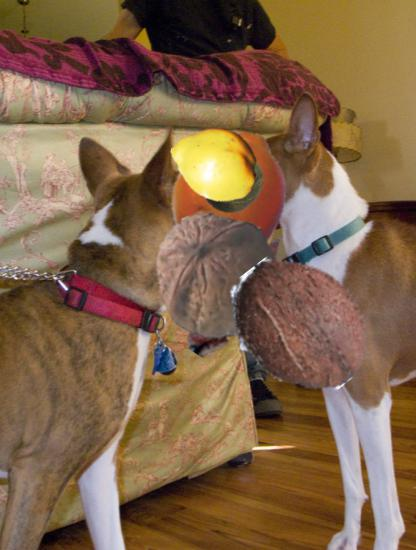Cocos: (224, 251, 374, 401)
Melon: (200, 151, 264, 215)
Quince: (169, 118, 259, 208)
Salak: (163, 222, 307, 366)
Tangelo: (166, 129, 298, 261)
Walnut: (151, 209, 282, 340)
